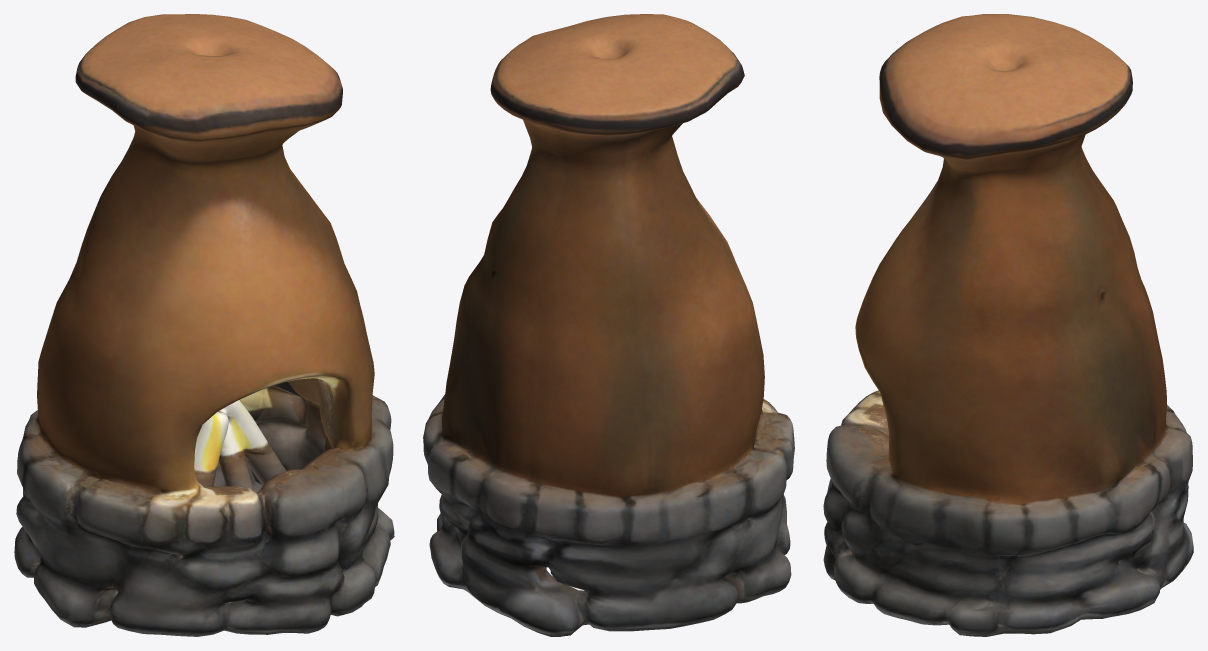
Rendered from a181_tandir.glb.
3 views of the same model, side by side, from view 1: azimuth 30°, elevation 25°; view 2: azimuth 150°, elevation 25°; view 3: azimuth 270°, elevation 25° (orthographic). The views are drawn at different scales.
Size of the model in its own units: 1.32 by 2 by 1.28.
Materials: 1 (1 with a texture image).
